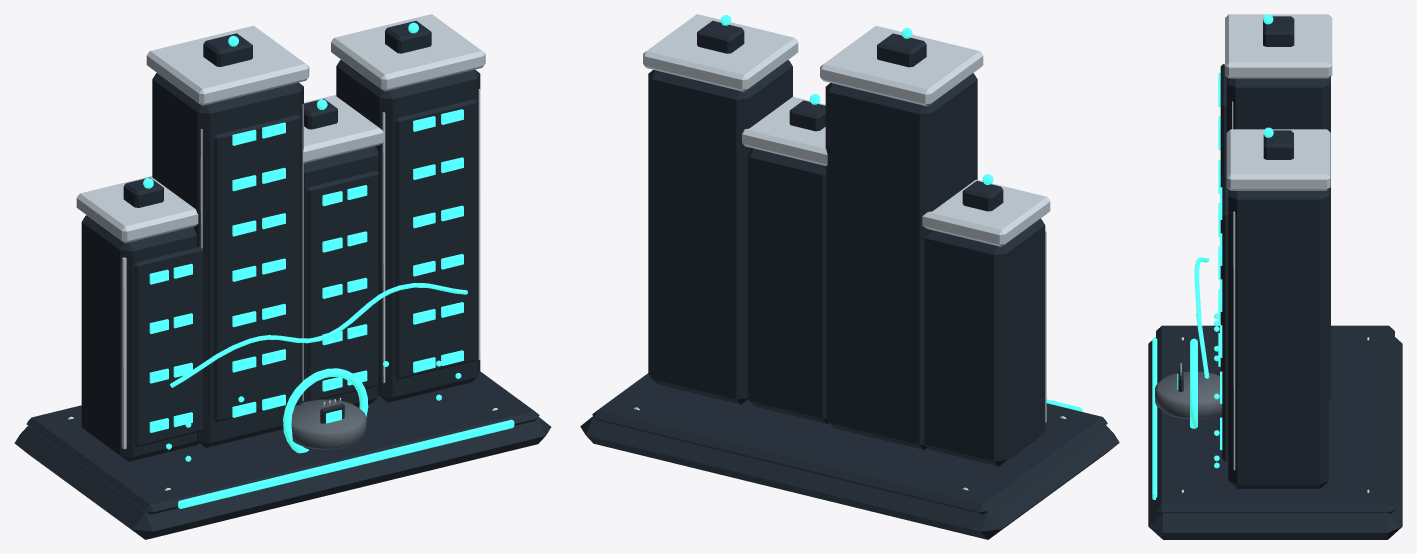
File: CompanyA_System.glb
3 views of the same model, side by side, from view 1: azimuth 30°, elevation 25°; view 2: azimuth 150°, elevation 25°; view 3: azimuth 270°, elevation 25° (orthographic). The views are drawn at different scales.
Parts seen in each view (by area): view 1: CompanyA_System_Body; view 2: CompanyA_System_Body; view 3: CompanyA_System_Body.
Part boxes in pixels (x1=…): CompanyA_System_Body: x1=14, y1=14, x2=551, y2=539; CompanyA_System_Body: x1=580, y1=14, x2=1119, y2=539; CompanyA_System_Body: x1=1148, y1=14, x2=1402, y2=539.
Size of the model in its own units: 2.84 by 2.77 by 1.56.
